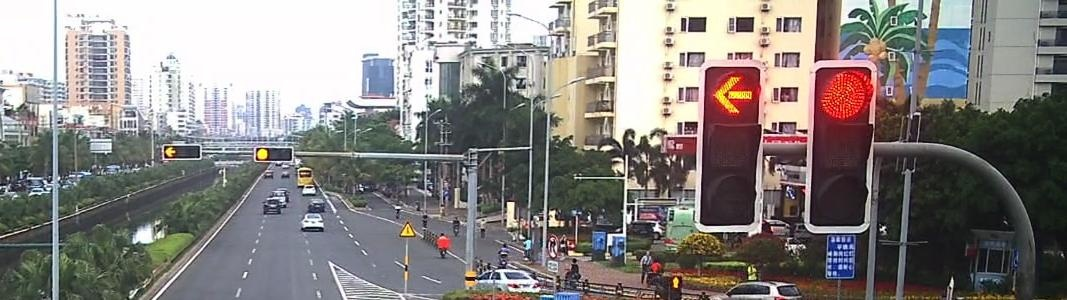red: (817, 70, 873, 122), (253, 146, 268, 162)
redleft: (709, 73, 756, 119), (164, 144, 175, 158)
redpeople: (668, 274, 681, 290)
